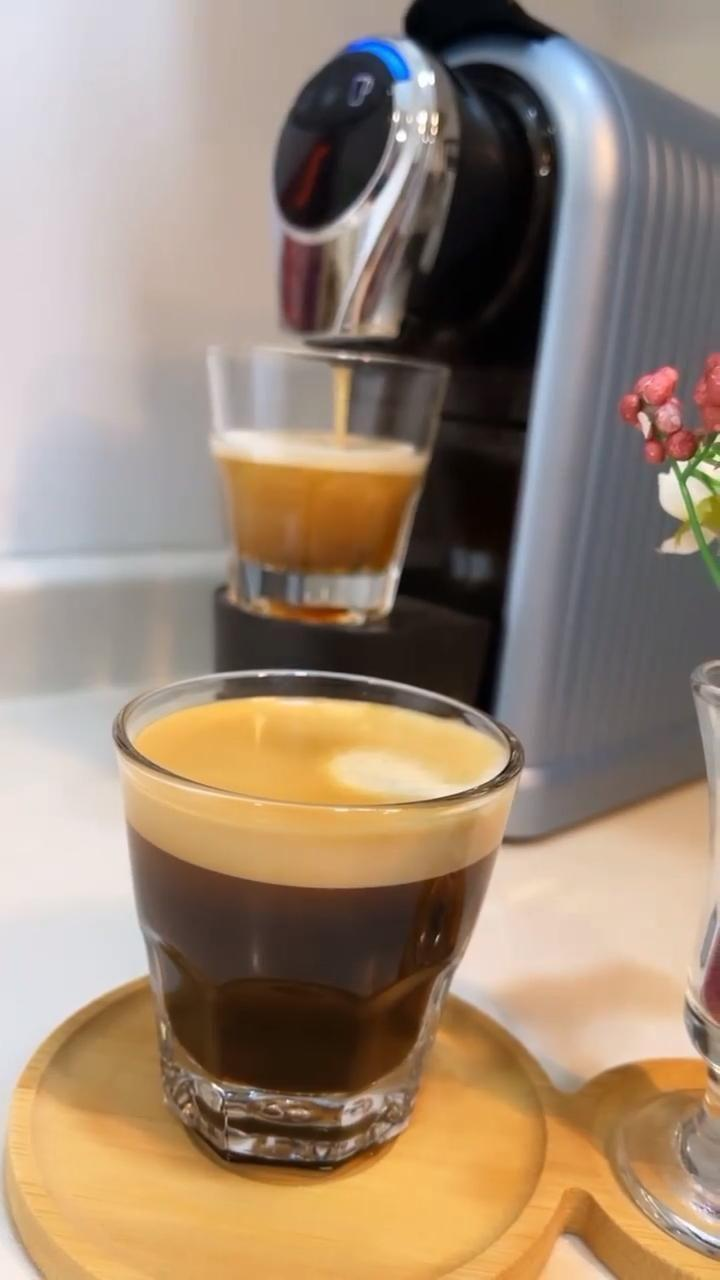glass-normal: (105, 660, 531, 1172), (197, 334, 455, 630)
